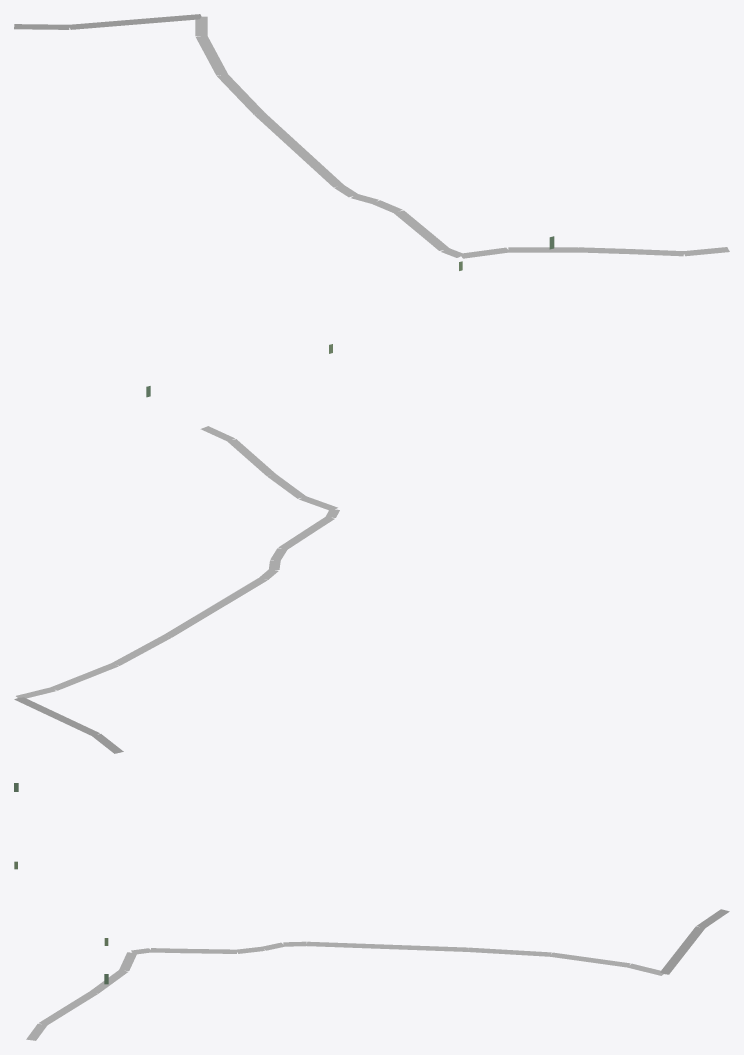
3 renders of one model, top to bottom at view 1: azimuth 30°, elevation 25°; view 2: azimuth 150°, elevation 25°; view 3: azimuth 270°, elevation 25°, orthographic. The views are drawn at different scales.
Size of the model in its own units: 390 by 8.29 by 476.
